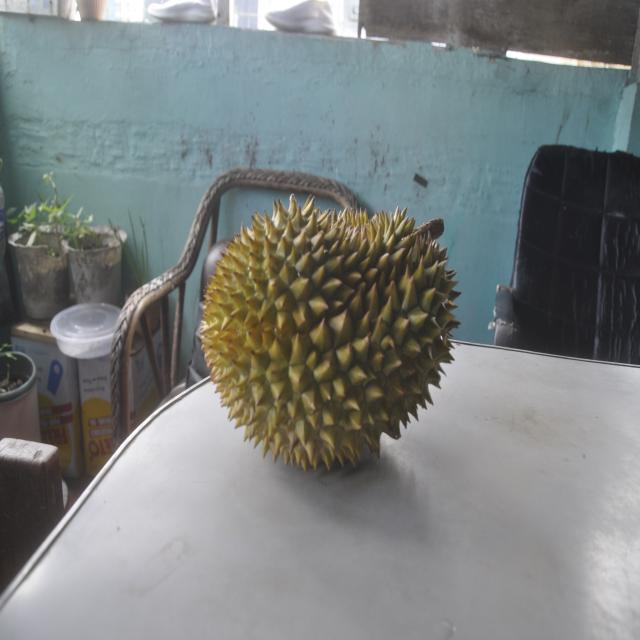mature: (198, 190, 440, 477)
